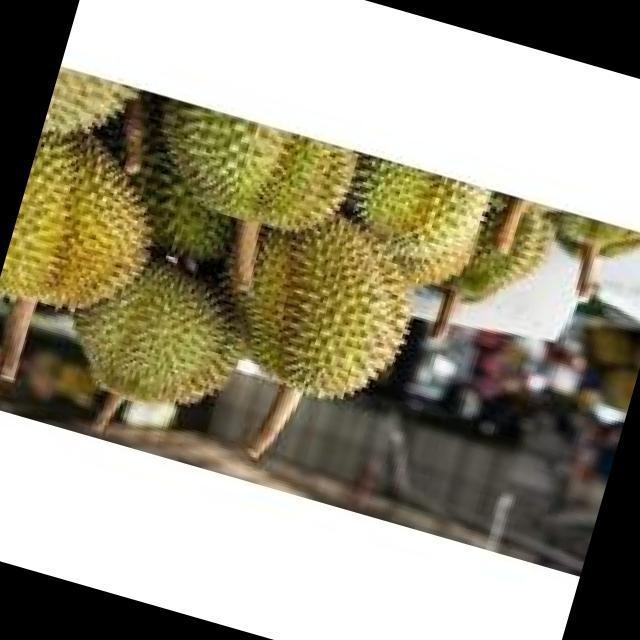fruit: (200, 173, 460, 437), (39, 214, 286, 442), (0, 102, 186, 360)
